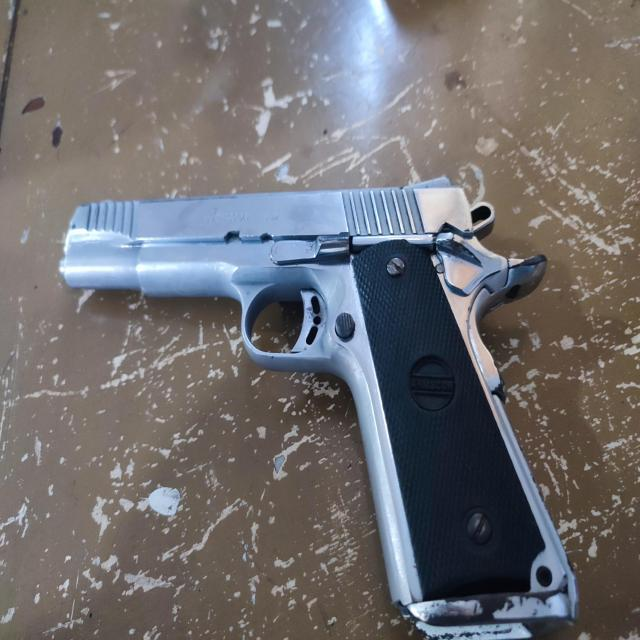pistol: (58, 179, 577, 629)
